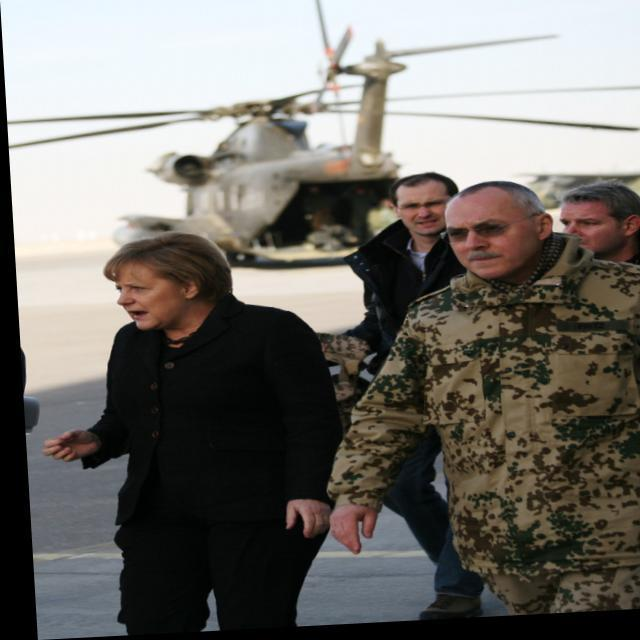Nonhelmet: (435, 173, 560, 297), (100, 227, 234, 335), (548, 164, 640, 265), (383, 163, 456, 248)
